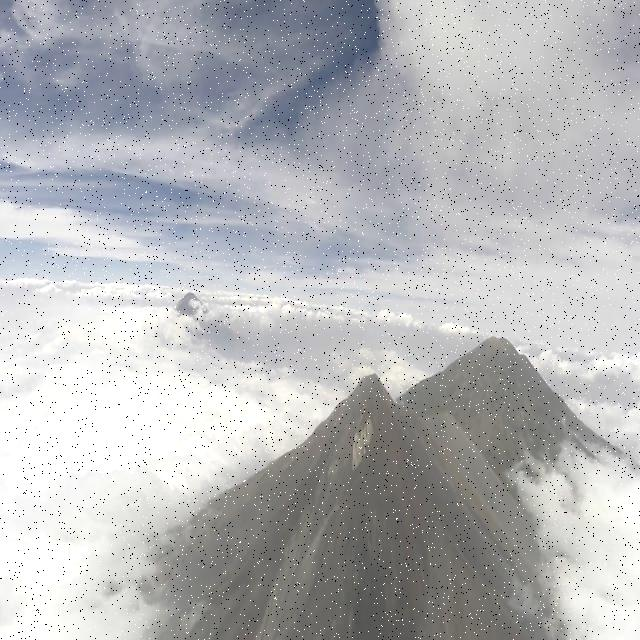Summit: (266, 371, 461, 471)
